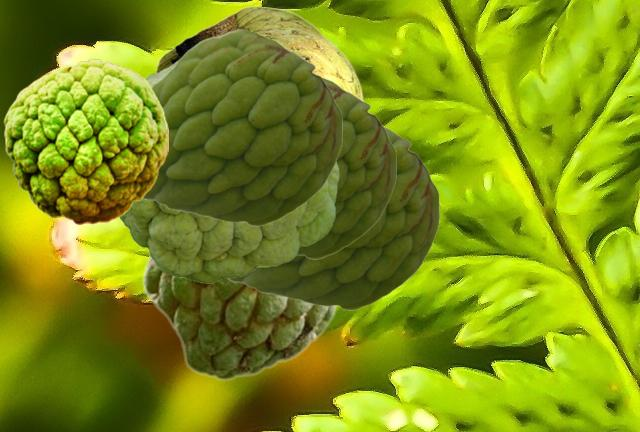atis: (118, 58, 338, 282), (227, 122, 438, 309), (144, 29, 341, 225), (3, 58, 167, 224), (140, 253, 340, 380), (155, 5, 364, 100), (297, 72, 395, 258)
